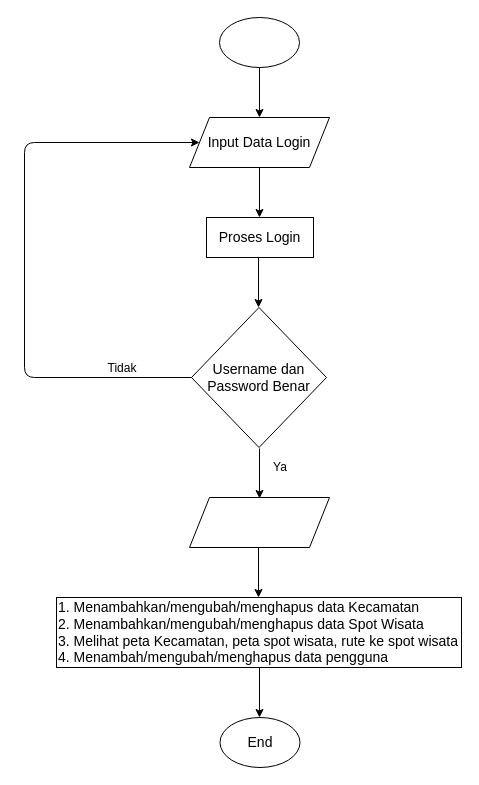
Image size: 479x785. Some labels were removed from this diagram. Here are the shapes that lost their labels. From the top down, the box of each, then its label:
(218, 16, 300, 68): Start
(188, 496, 330, 548): Halaman Admin
